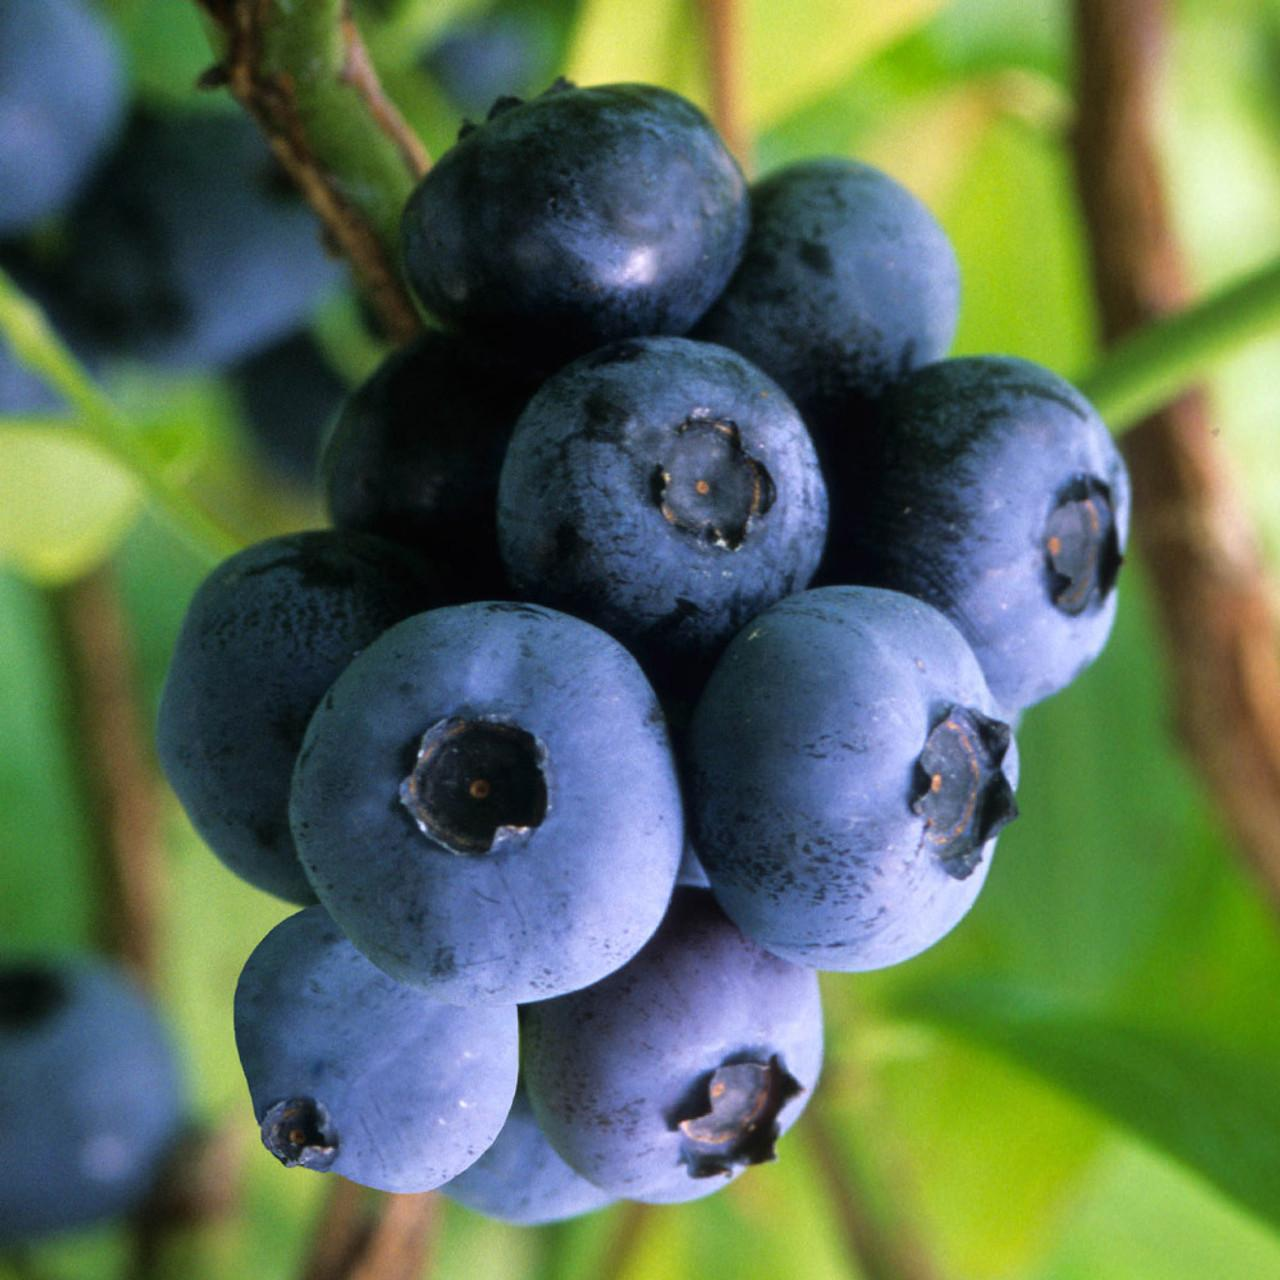bluebarry: (150, 73, 1136, 1224), (2, 942, 192, 1241)
